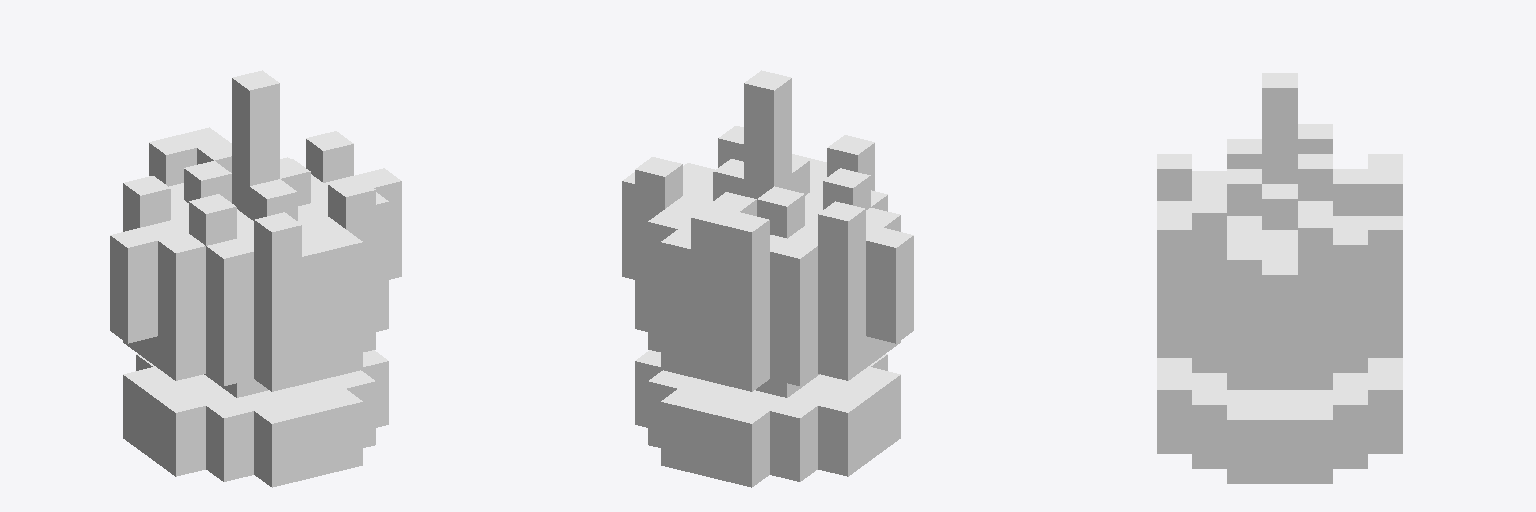
The model's file is enemy_droid_corpse.obj.
3 views of the same model, side by side, from view 1: azimuth 30°, elevation 25°; view 2: azimuth 150°, elevation 25°; view 3: azimuth 270°, elevation 25° (orthographic).
Parts seen in each view (by area): view 1: object 1; view 2: object 1; view 3: object 1.
Boxes of the visible parts, <box> form: object 1: <box>110,70,401,487</box>; object 1: <box>622,70,913,487</box>; object 1: <box>1157,73,1402,483</box>.
Size of the model in its own units: 0.9 by 1.1 by 0.7.